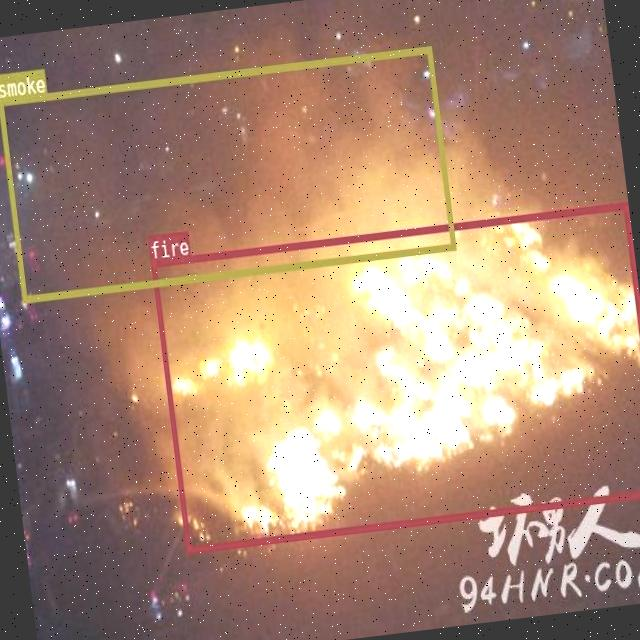fire: (149, 200, 640, 551)
smoke: (0, 44, 455, 302)
